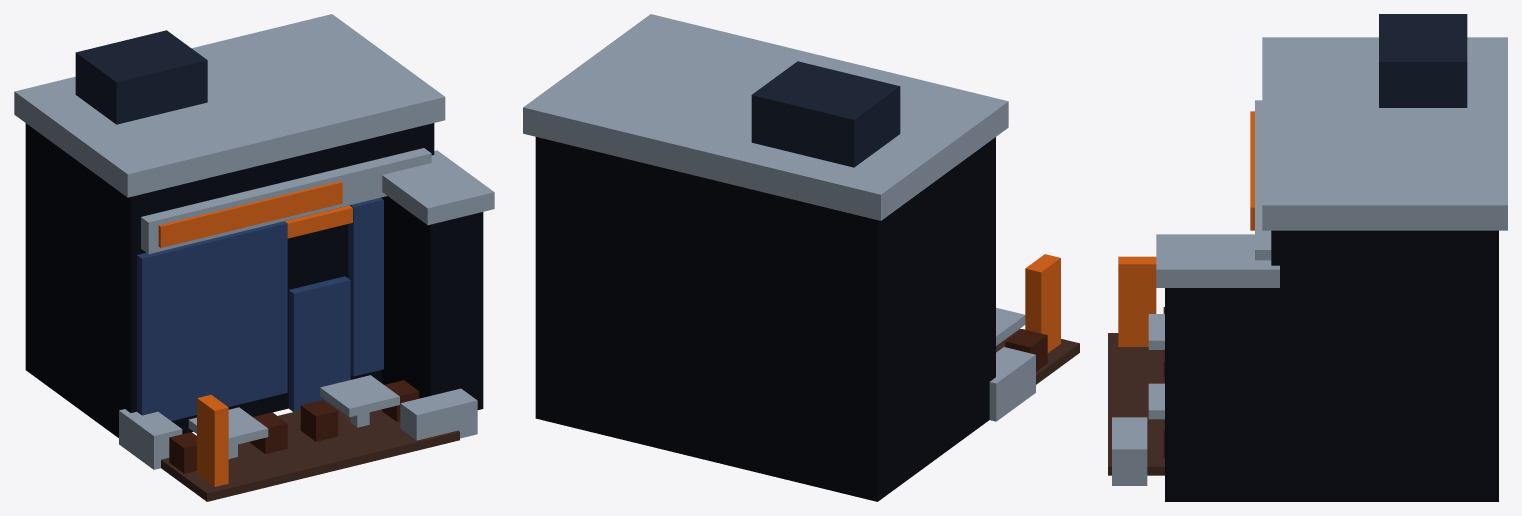
Rendered from shop5.obj.
3 renders of one model, left to right at view 1: azimuth 30°, elevation 25°; view 2: azimuth 150°, elevation 25°; view 3: azimuth 270°, elevation 25°, orthographic. The views are drawn at different scales.
Visible parts, largest first — view 1: shell, parapet, glazing, wing, forecourt, roof-plant, door, fascia, planters, wing-cap, sign, chairs (+3 smaller); view 2: shell, parapet, roof-plant, menu-board, planters, chairs, forecourt, tables; view 3: shell, parapet, wing, roof-plant, wing-cap, forecourt, menu-board, planters, fascia, tables, sign.
Part boxes in pixels (x1=…): shell: x1=25, y1=123, x2=434, y2=437; parapet: x1=14, y1=14, x2=445, y2=197; glazing: x1=137, y1=197, x2=383, y2=420; wing: x1=381, y1=196, x2=483, y2=409; forecourt: x1=161, y1=403, x2=459, y2=501; roof-plant: x1=75, y1=30, x2=207, y2=124; door: x1=288, y1=276, x2=350, y2=411; fascia: x1=141, y1=148, x2=431, y2=254; planters: x1=119, y1=388, x2=477, y2=469; wing-cap: x1=382, y1=150, x2=494, y2=225; sign: x1=158, y1=181, x2=342, y2=247; chairs: x1=169, y1=380, x2=419, y2=473; shell: x1=535, y1=137, x2=995, y2=501; parapet: x1=523, y1=14, x2=1008, y2=220; roof-plant: x1=751, y1=61, x2=900, y2=167; menu-board: x1=1025, y1=254, x2=1060, y2=352; planters: x1=989, y1=347, x2=1035, y2=421; chairs: x1=1005, y1=329, x2=1047, y2=371; forecourt: x1=996, y1=329, x2=1079, y2=384; tables: x1=996, y1=307, x2=1025, y2=345; shell: x1=1271, y1=230, x2=1498, y2=501; parapet: x1=1262, y1=37, x2=1507, y2=230; wing: x1=1165, y1=288, x2=1271, y2=501; roof-plant: x1=1379, y1=14, x2=1467, y2=107; wing-cap: x1=1156, y1=234, x2=1279, y2=287; forecourt: x1=1108, y1=333, x2=1164, y2=475; menu-board: x1=1118, y1=256, x2=1156, y2=346; planters: x1=1112, y1=417, x2=1147, y2=485; fascia: x1=1255, y1=100, x2=1271, y2=260; tables: x1=1148, y1=314, x2=1164, y2=419; sign: x1=1250, y1=111, x2=1254, y2=230.
Size of the model in its own units: 3.14 by 3.02 by 3.16.
